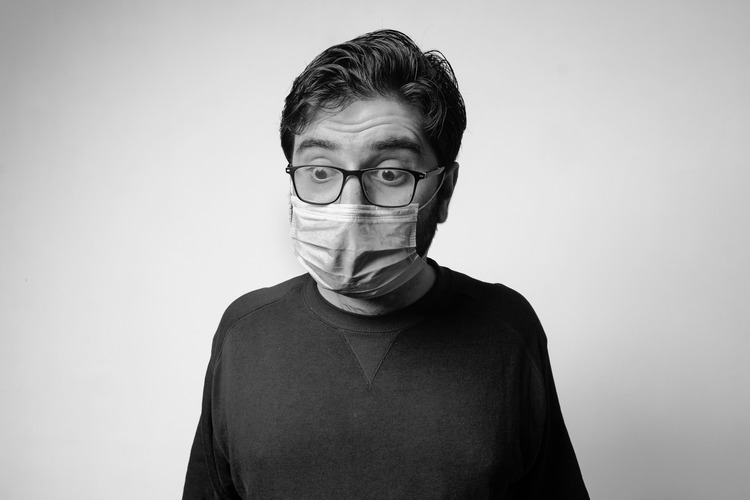with_mask: (290, 108, 435, 292)
